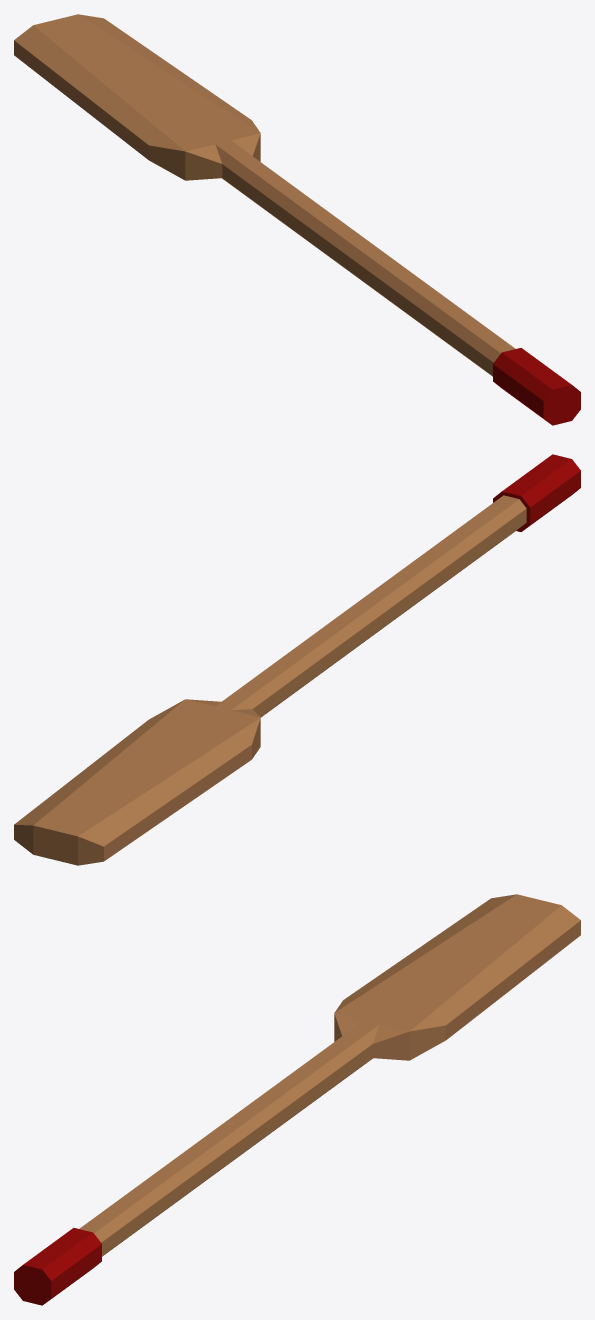
Rendered from oar.fbx.
3 renders of one model, top to bottom at view 1: azimuth 30°, elevation 25°; view 2: azimuth 150°, elevation 25°; view 3: azimuth 330°, elevation 25°, orthographic.
Visible parts, largest first — view 1: Cube; view 2: Cube; view 3: Cube.
Boxes of the visible parts, x1,y1,x2,y2 form: Cube: [14, 14, 580, 425]; Cube: [14, 454, 580, 865]; Cube: [14, 894, 580, 1305].
Size of the model in its own units: 48.96 by 16.38 by 417.
